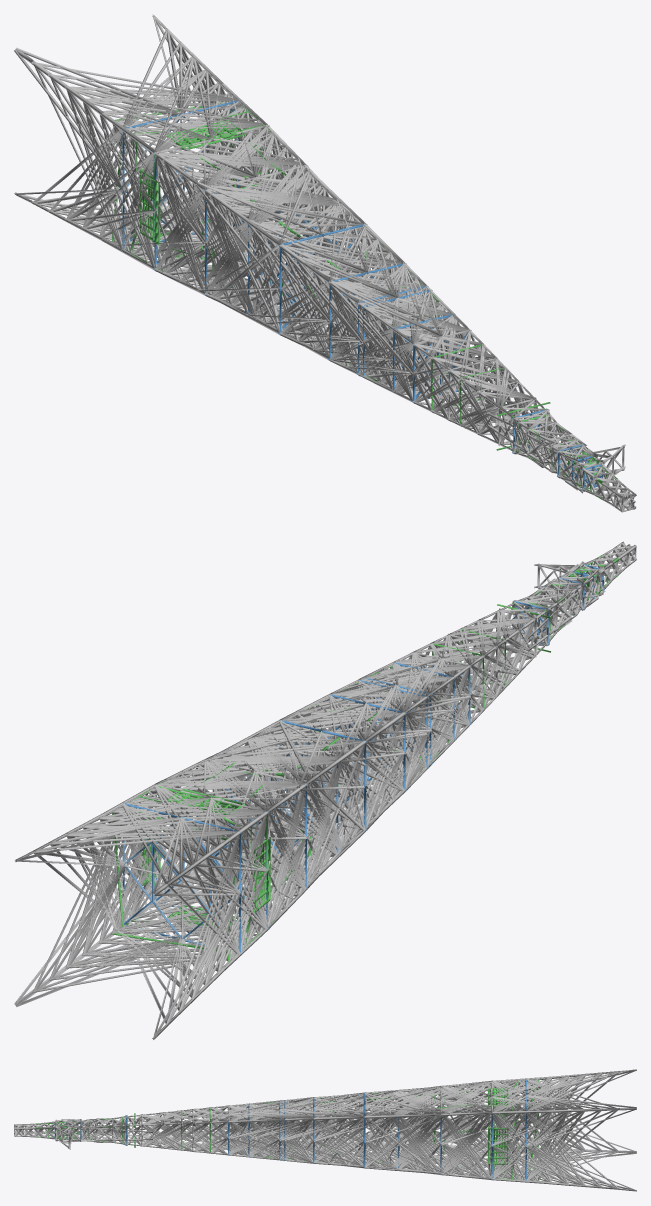
The model's file is tower.glb.
The picture shows the model from 3 angles, top to bottom: view 1: azimuth 30°, elevation 25°; view 2: azimuth 150°, elevation 25°; view 3: azimuth 270°, elevation 25°; orthographic projection. The views are drawn at different scales.
Visible parts, largest first — view 1: no part large enough to name; view 2: no part large enough to name; view 3: 4f_kfan_bar_7000339, 4f_kfan_bar_7000342, 4f_kfan_bar_7000337, 4f_pbase_spoke_6500_0_p_F, 4f_kfan_bar_7000387, 4f_pbase_spoke_6500_0_n_R, 4f_kfan_bar_7000390.
Boxes of the visible parts, <box> form: 4f_kfan_bar_7000339: <box>526,1111,618,1188</box>; 4f_kfan_bar_7000342: <box>528,1110,617,1180</box>; 4f_kfan_bar_7000337: <box>536,1108,619,1112</box>; 4f_pbase_spoke_6500_0_p_F: <box>529,1095,636,1108</box>; 4f_kfan_bar_7000387: <box>492,1111,583,1184</box>; 4f_pbase_spoke_6500_0_n_R: <box>527,1108,636,1147</box>; 4f_kfan_bar_7000390: <box>494,1111,583,1178</box>.
Size of the model in its own units: 5494 by 5494 by 36662.
